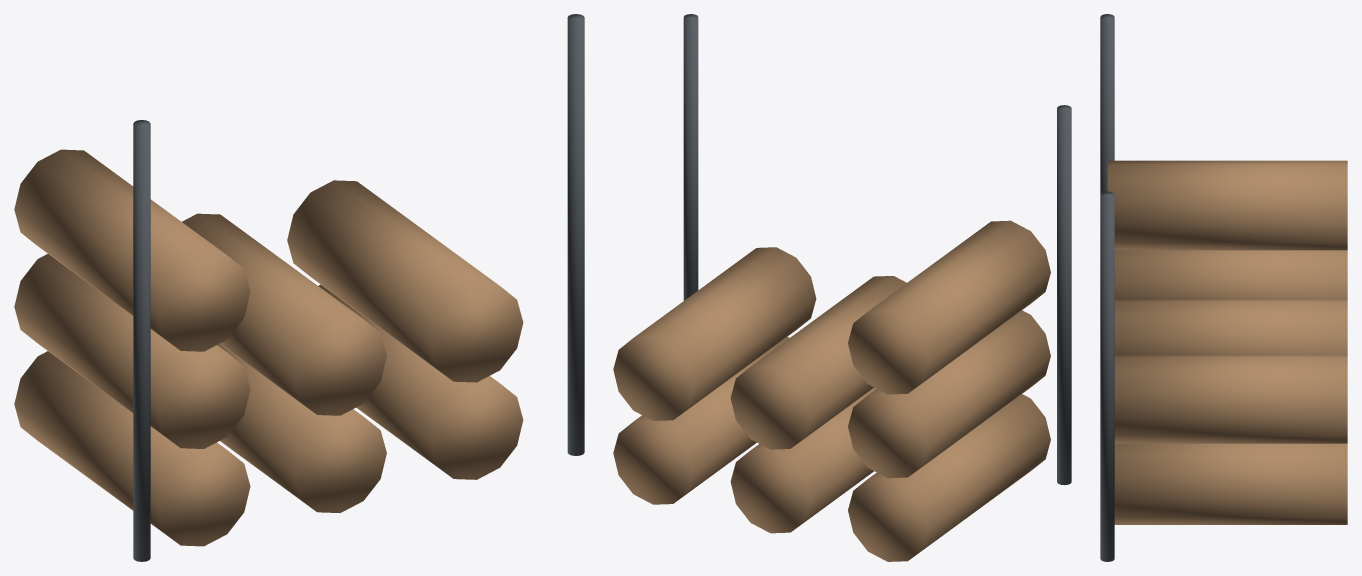
File: atelier-firewood-holder.glb
3 views of the same model, side by side, from view 1: azimuth 30°, elevation 25°; view 2: azimuth 150°, elevation 25°; view 3: azimuth 270°, elevation 25° (orthographic). The views are drawn at different scales.
Visible parts, largest first — view 1: legs.216, metal.190; view 2: legs.216, metal.190; view 3: legs.216, metal.190.
Boxes of the visible parts, x1,y1,x2,y2 form: legs.216: (14, 149, 523, 546); metal.190: (133, 14, 584, 561); legs.216: (613, 220, 1050, 561); metal.190: (683, 14, 1071, 485); legs.216: (1107, 160, 1347, 524); metal.190: (1100, 14, 1114, 561).
Bounding box in the file's own units: 0.724 × 0.675 × 0.412.
